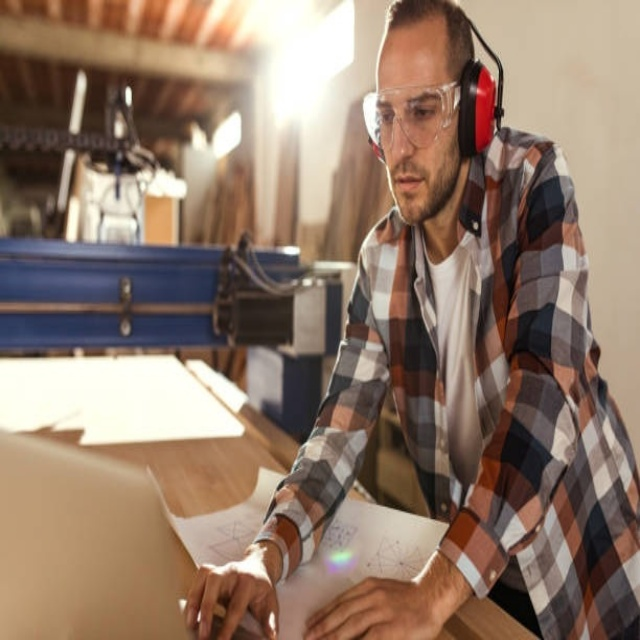Gafas: (365, 80, 465, 153)
Sin_guantes: (303, 565, 444, 637), (184, 545, 280, 640)
Sin_mascara: (388, 160, 431, 212)
